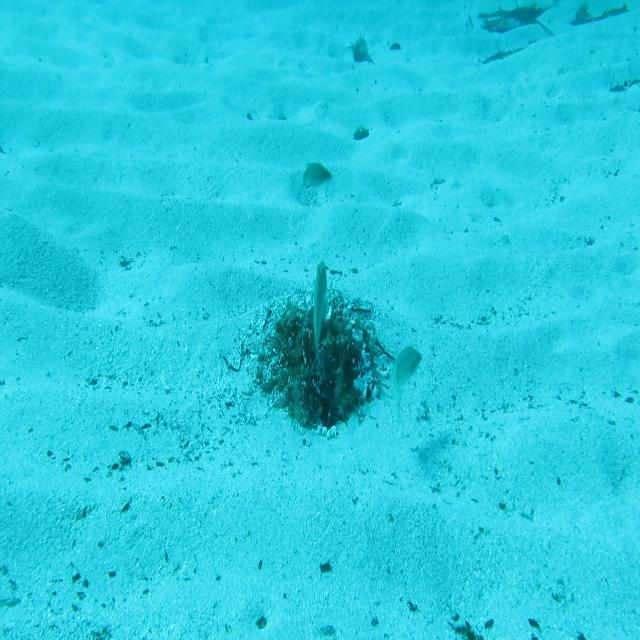CHASE_FLEE: (309, 256, 335, 378)
female: (390, 340, 422, 425)
nest: (251, 275, 395, 438)
other_fish: (299, 156, 335, 202)
